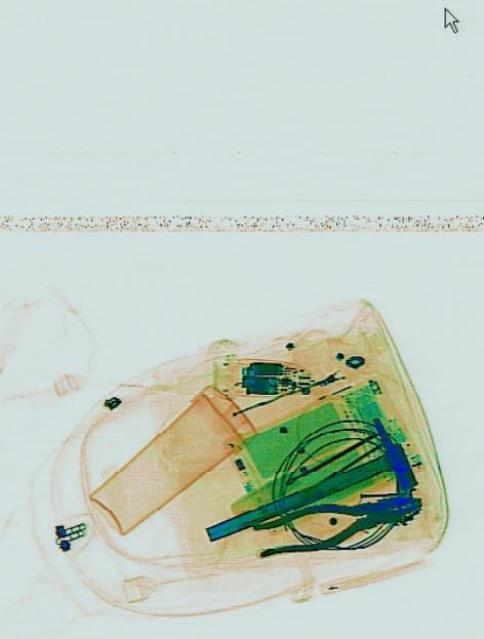Pliers: (250, 477, 423, 563)
